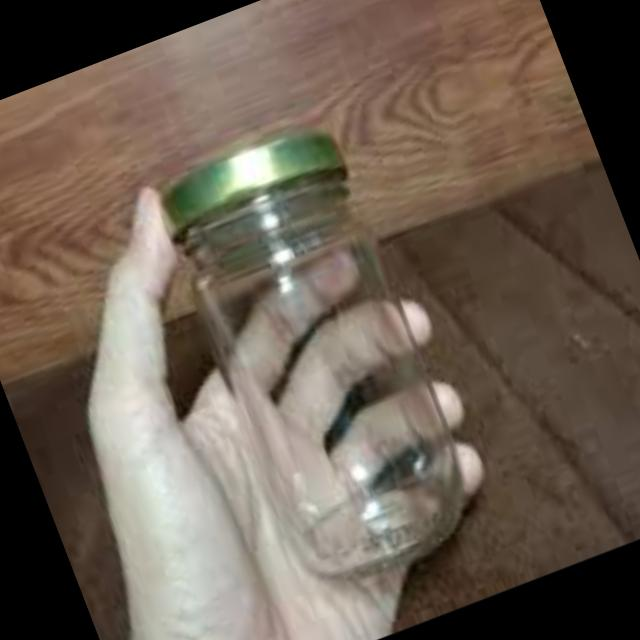ToplesKaca: (82, 79, 510, 626)
